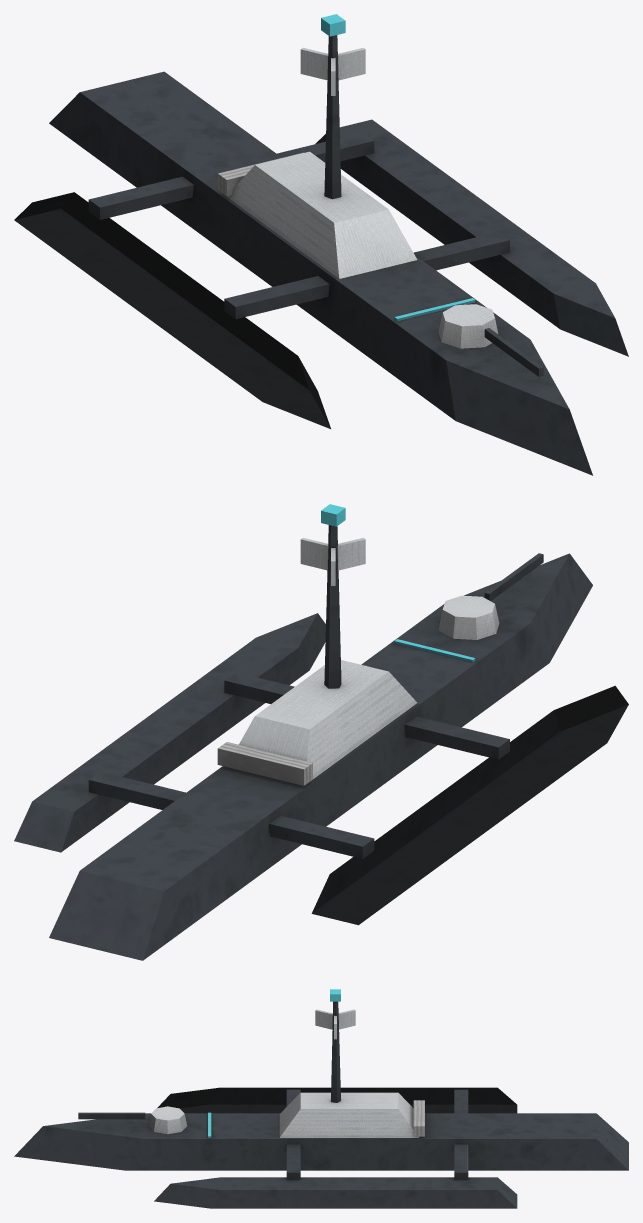
File: autonomous_warship-future.glb
The picture shows the model from 3 angles, top to bottom: view 1: azimuth 30°, elevation 25°; view 2: azimuth 150°, elevation 25°; view 3: azimuth 270°, elevation 25°; orthographic projection. The views are drawn at different scales.
Visible parts, largest first — view 1: LOD0; view 2: LOD0; view 3: LOD0.
Boxes of the visible parts, x1,y1,x2,y2 form: LOD0: (14,14,628,475); LOD0: (14,504,628,960); LOD0: (14,989,628,1208).
Size of what is drawn, in the model's own units: 0.88 by 0.6499 by 2.2.
2 materials, 2 textured.
